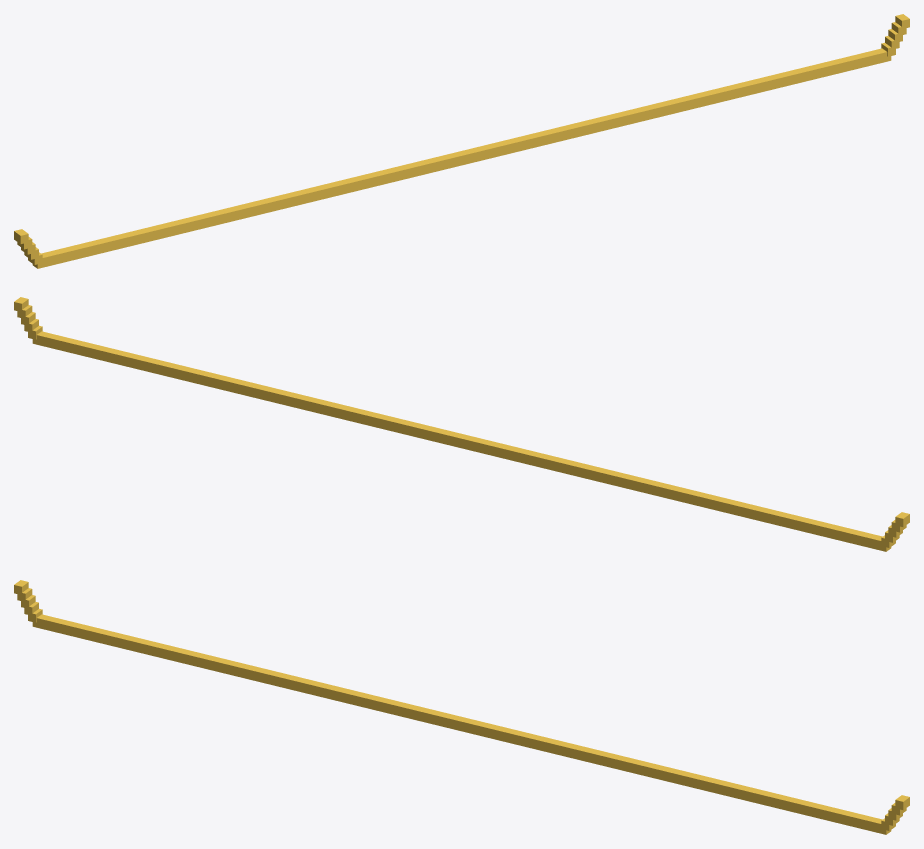
File: SM_20_Ridge_Crown.fbx
3 views of the same model, one above another, from view 1: azimuth 30°, elevation 25°; view 2: azimuth 150°, elevation 25°; view 3: azimuth 330°, elevation 25° (orthographic).
Visible parts, largest first — view 1: Ridge_Crown; view 2: Ridge_Crown; view 3: Ridge_Crown.
Part boxes in pixels (bbox=[...]): Ridge_Crown: bbox=[14, 14, 909, 268]; Ridge_Crown: bbox=[14, 297, 909, 551]; Ridge_Crown: bbox=[14, 580, 909, 834].
Size of the model in its own units: 3855 by 50 by 157.
